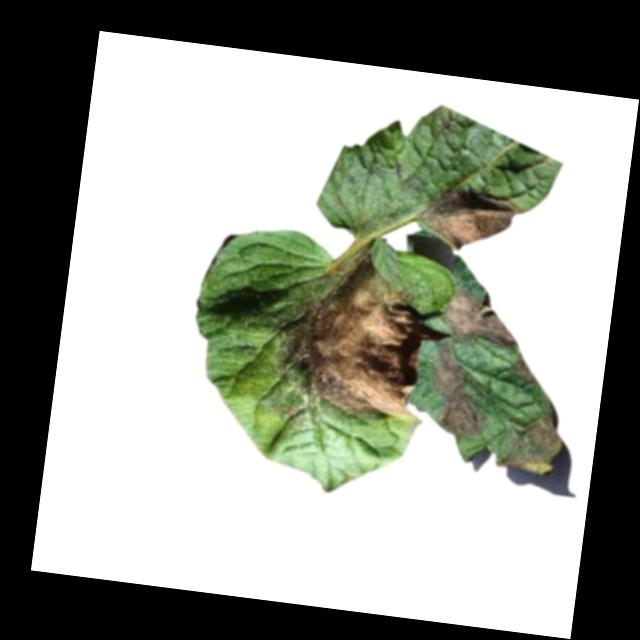Late_blight: (272, 241, 436, 424), (413, 179, 523, 256), (423, 340, 496, 440), (494, 402, 571, 480), (437, 282, 517, 350), (508, 351, 542, 386)
